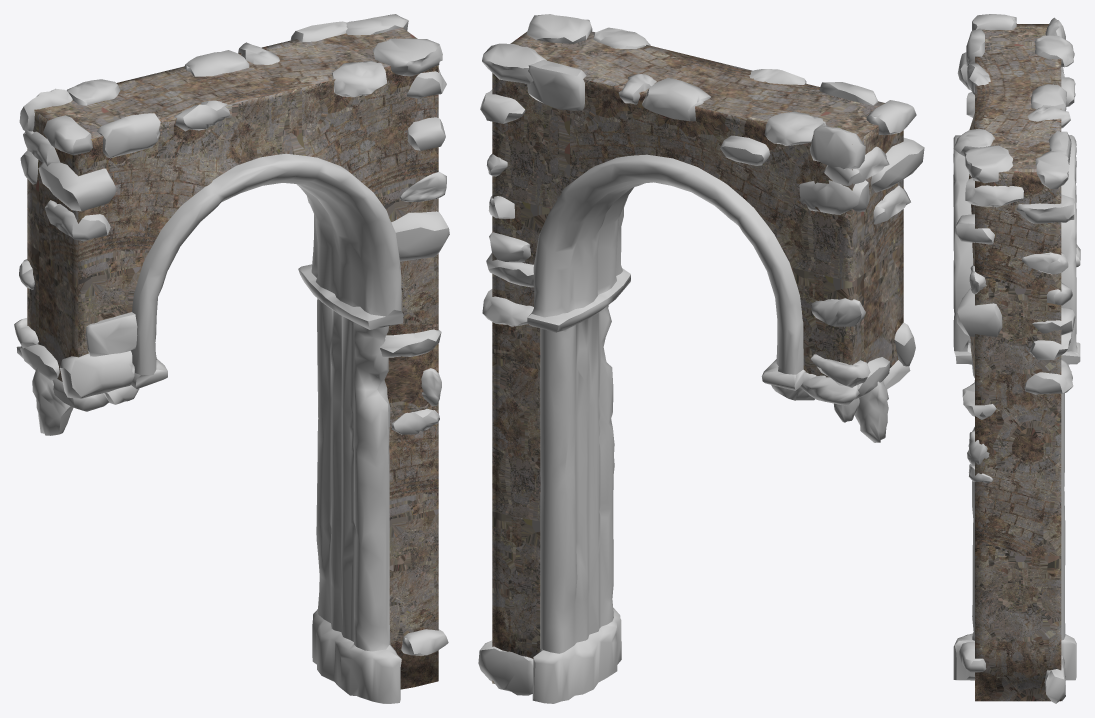
File: SM_WallArch05.FBX
3 views of the same model, side by side, from view 1: azimuth 30°, elevation 25°; view 2: azimuth 150°, elevation 25°; view 3: azimuth 270°, elevation 25° (orthographic). The views are drawn at different scales.
Visible parts, largest first — view 1: SM_WallArch05; view 2: SM_WallArch05; view 3: SM_WallArch05.
Part boxes in pixels (bbox=[...]): SM_WallArch05: bbox=[14, 14, 449, 703]; SM_WallArch05: bbox=[478, 14, 924, 703]; SM_WallArch05: bbox=[953, 14, 1080, 703].
Size of the model in its own units: 649 by 218 by 1023.
